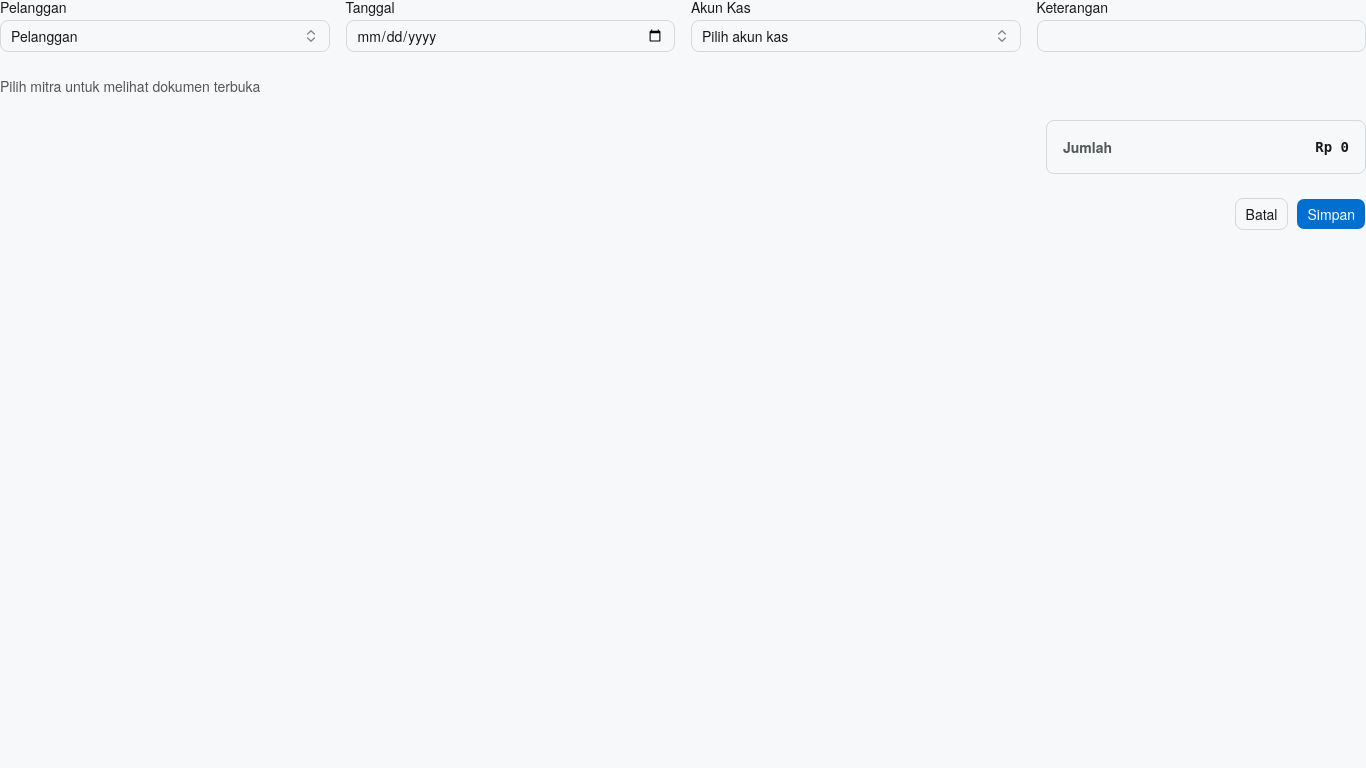
Test: shows the journal preview once an allocation exists
Click the dropdown labelled "Pelanggan". click: (44,36)
box: 0,20 -> 330,52
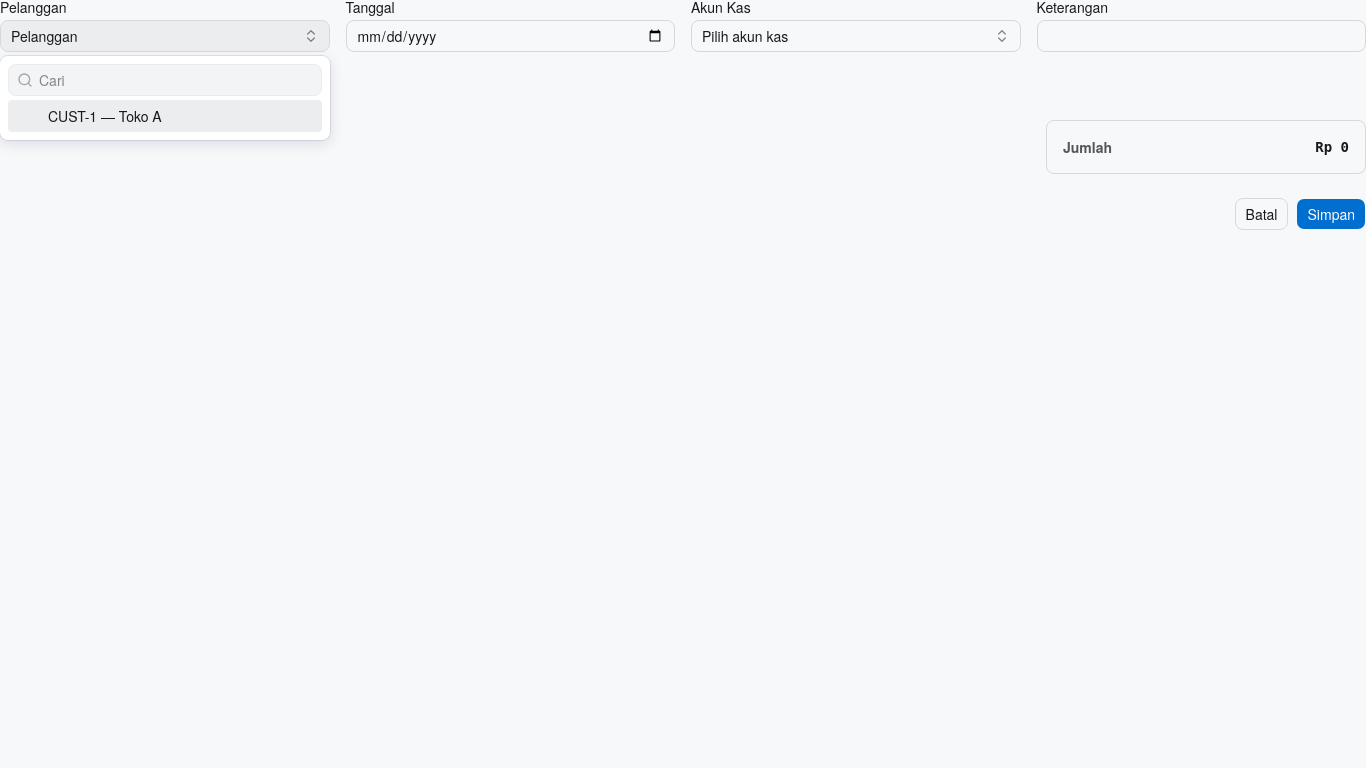
Click the option "CUST-1 — Toko A". click: (105,116)
box: 8,100 -> 322,132
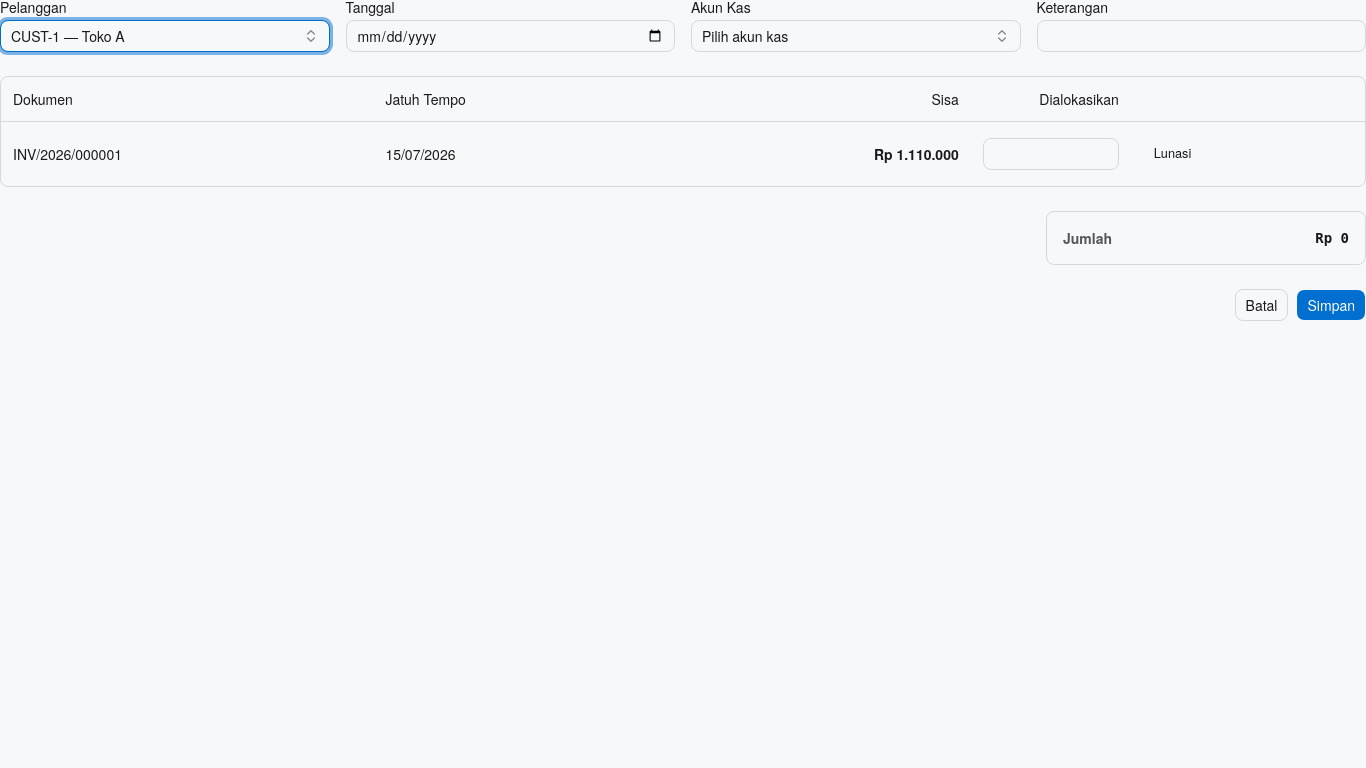
Click the dropdown labelled "Pilih akun kas". click: (745,36)
box: 691,20 -> 1020,52
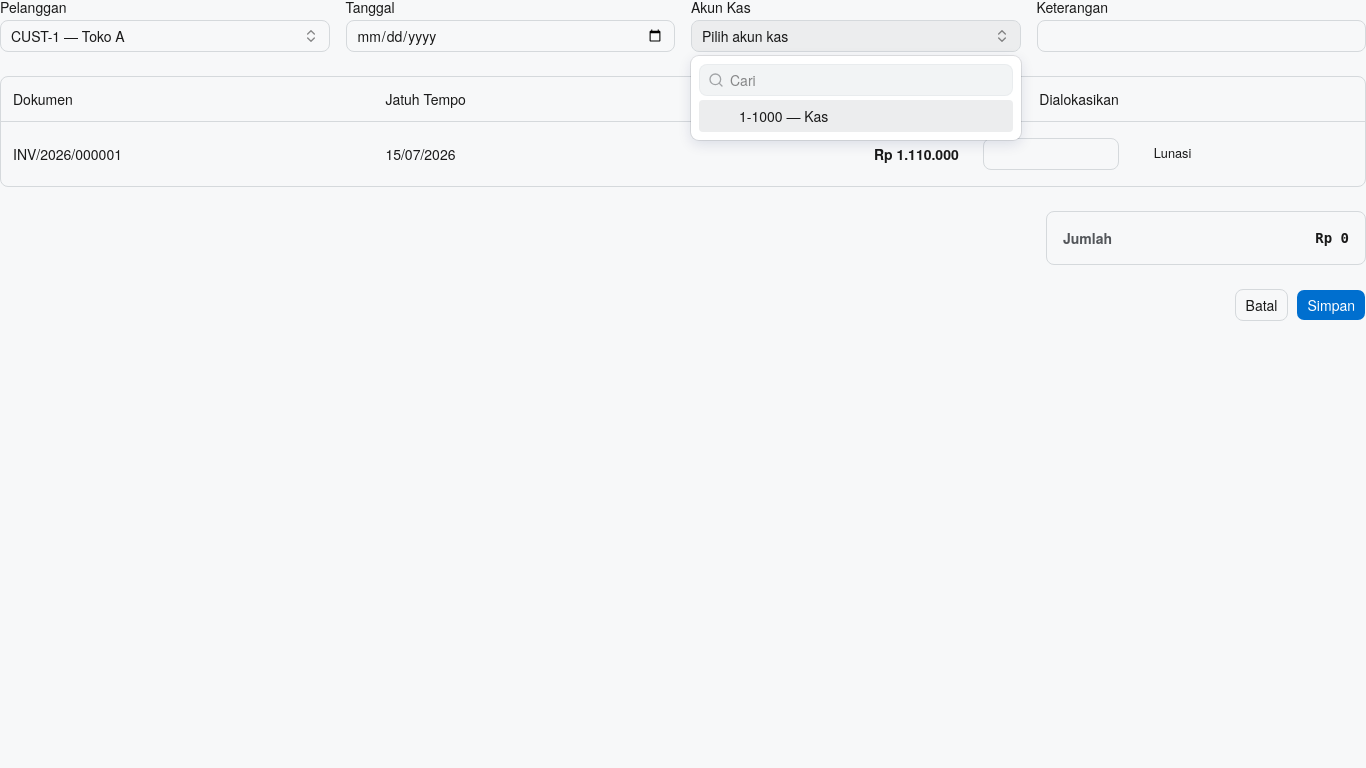
Click the option "1-1000 — Kas". click: (784,116)
box: 699,100 -> 1012,132
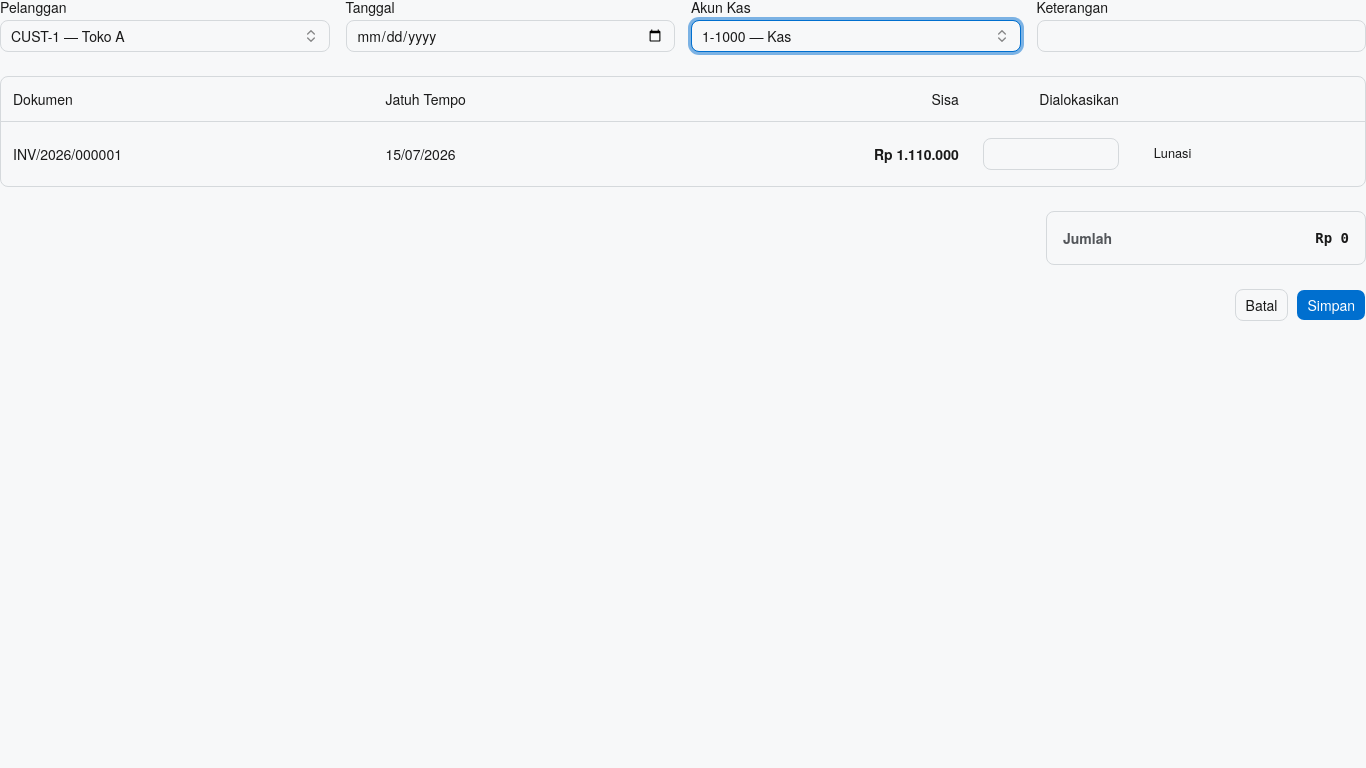
Click the button "Lunasi". click: (1172,154)
box: 1143,140 -> 1202,168
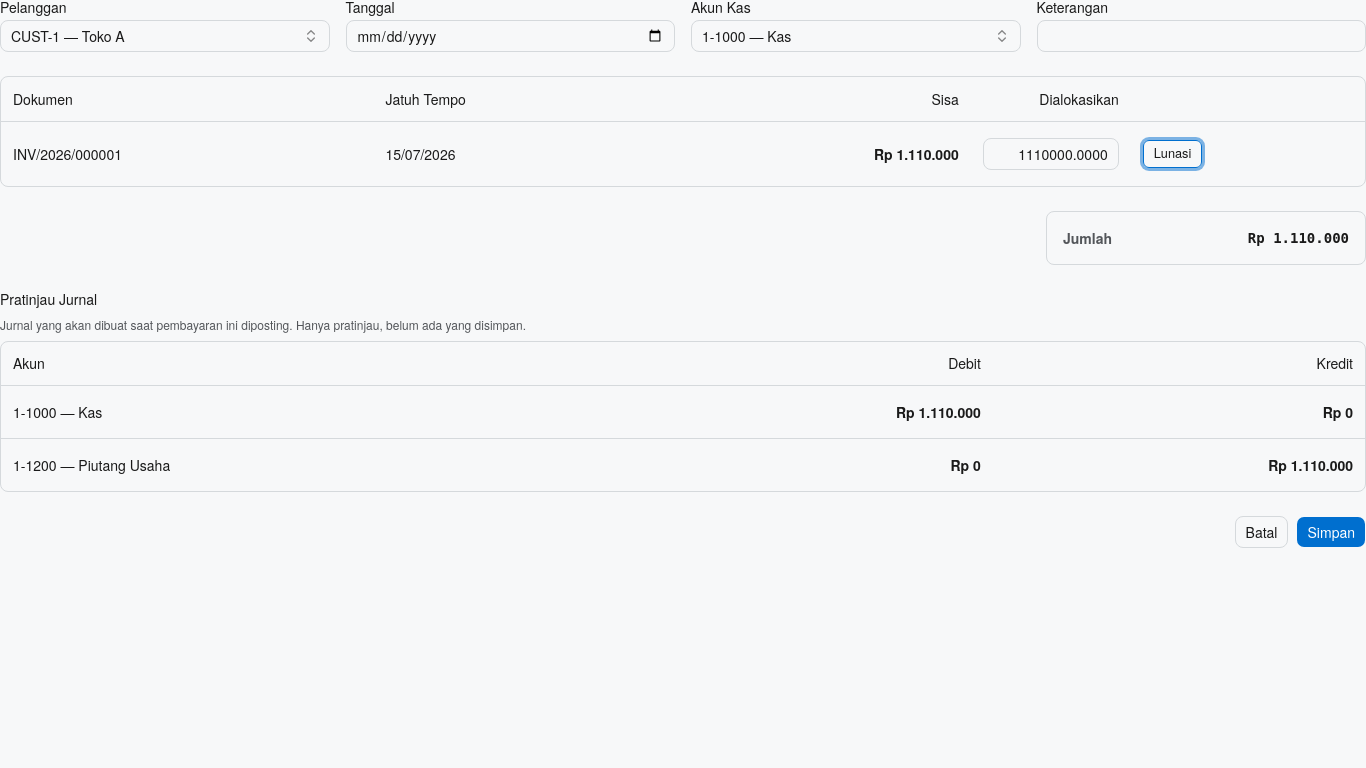
Check: the heading "Pratinjau Jurnal" is shown, box 0,288 -> 97,308
Check: the text "1-1200 — Piutang Usaha" is shown, box 1,438 -> 621,491
